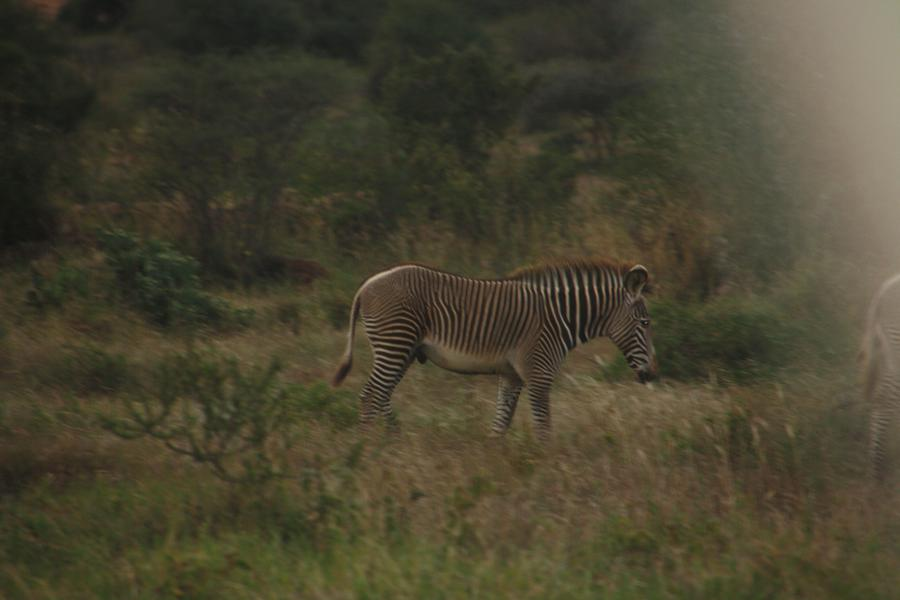zebra_grevys: (353, 250, 554, 381)
